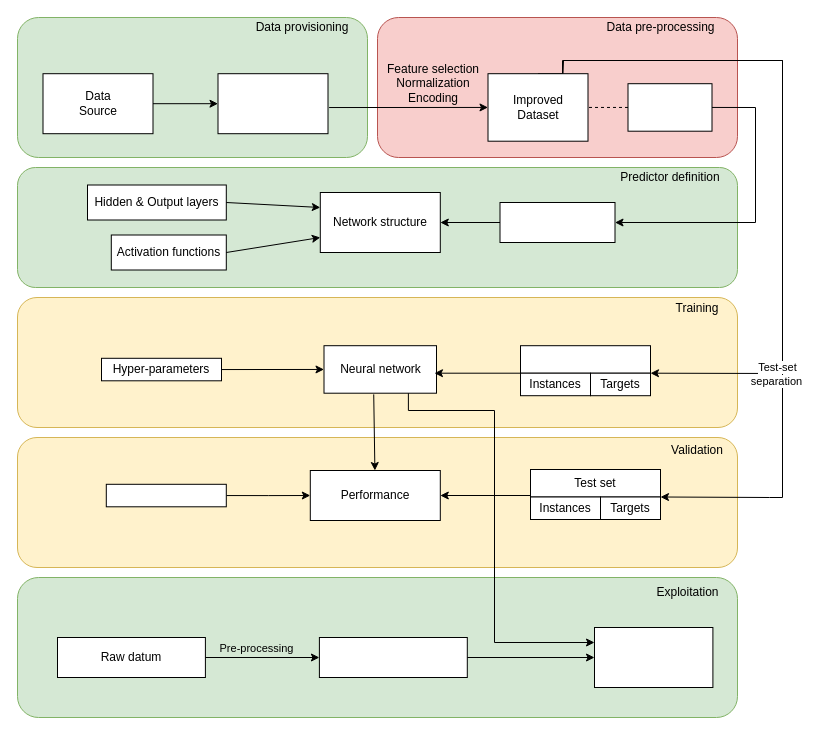
The diagram is 819 pixels wide and 735 high, and some of its shapes have lost their labels. Each missing label, with the box of its shape:
Dataset: (217, 73, 328, 134)
Input layer: (499, 202, 615, 242)
Measures: (105, 483, 226, 507)
New Instance: (318, 636, 467, 678)
Prediction: (594, 626, 713, 688)
Schema: (627, 83, 712, 131)
Training set: (520, 345, 650, 373)
